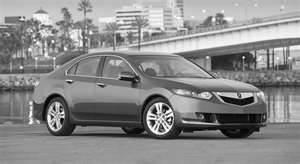car: (34, 53, 270, 139)
